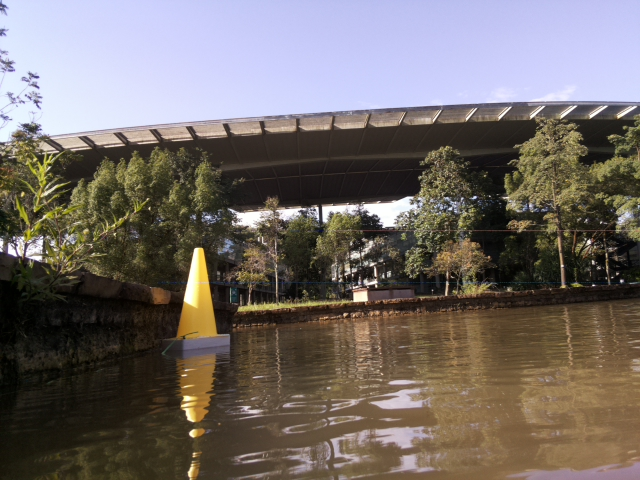checkpoint: (160, 246, 231, 351)
